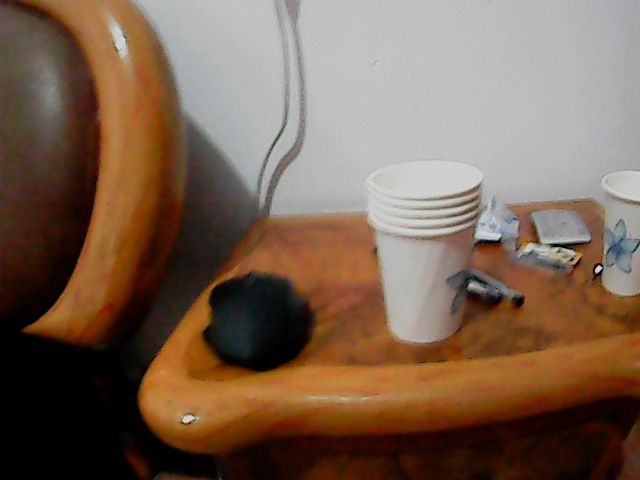cup: (368, 154, 481, 344)
mouse: (200, 267, 314, 368)
